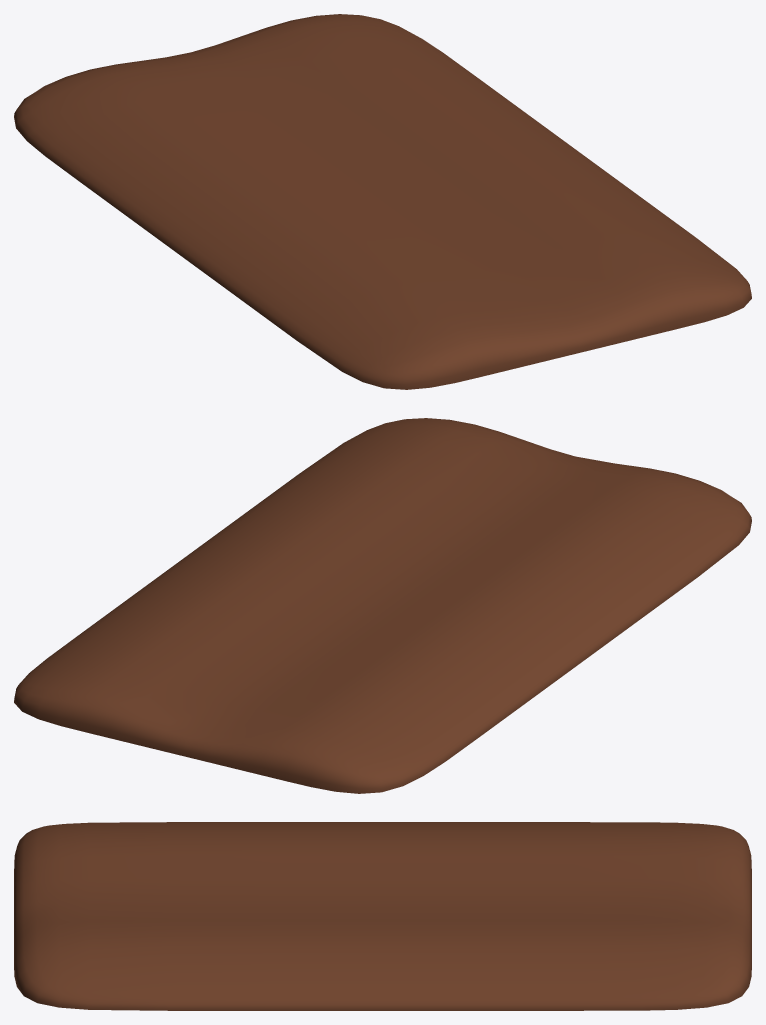
File: Ground2.fbx
3 views of the same model, one above another, from view 1: azimuth 30°, elevation 25°; view 2: azimuth 150°, elevation 25°; view 3: azimuth 270°, elevation 25° (orthographic). The views are drawn at different scales.
Visible parts, largest first — view 1: Plane.007; view 2: Plane.007; view 3: Plane.007.
Part boxes in pixels (<box>): Plane.007: <box>14,14,751,389</box>; Plane.007: <box>14,418,751,793</box>; Plane.007: <box>14,822,751,1010</box>.
Bounding box in the file's own units: 7.48 × 12.76 × 0.5827.
